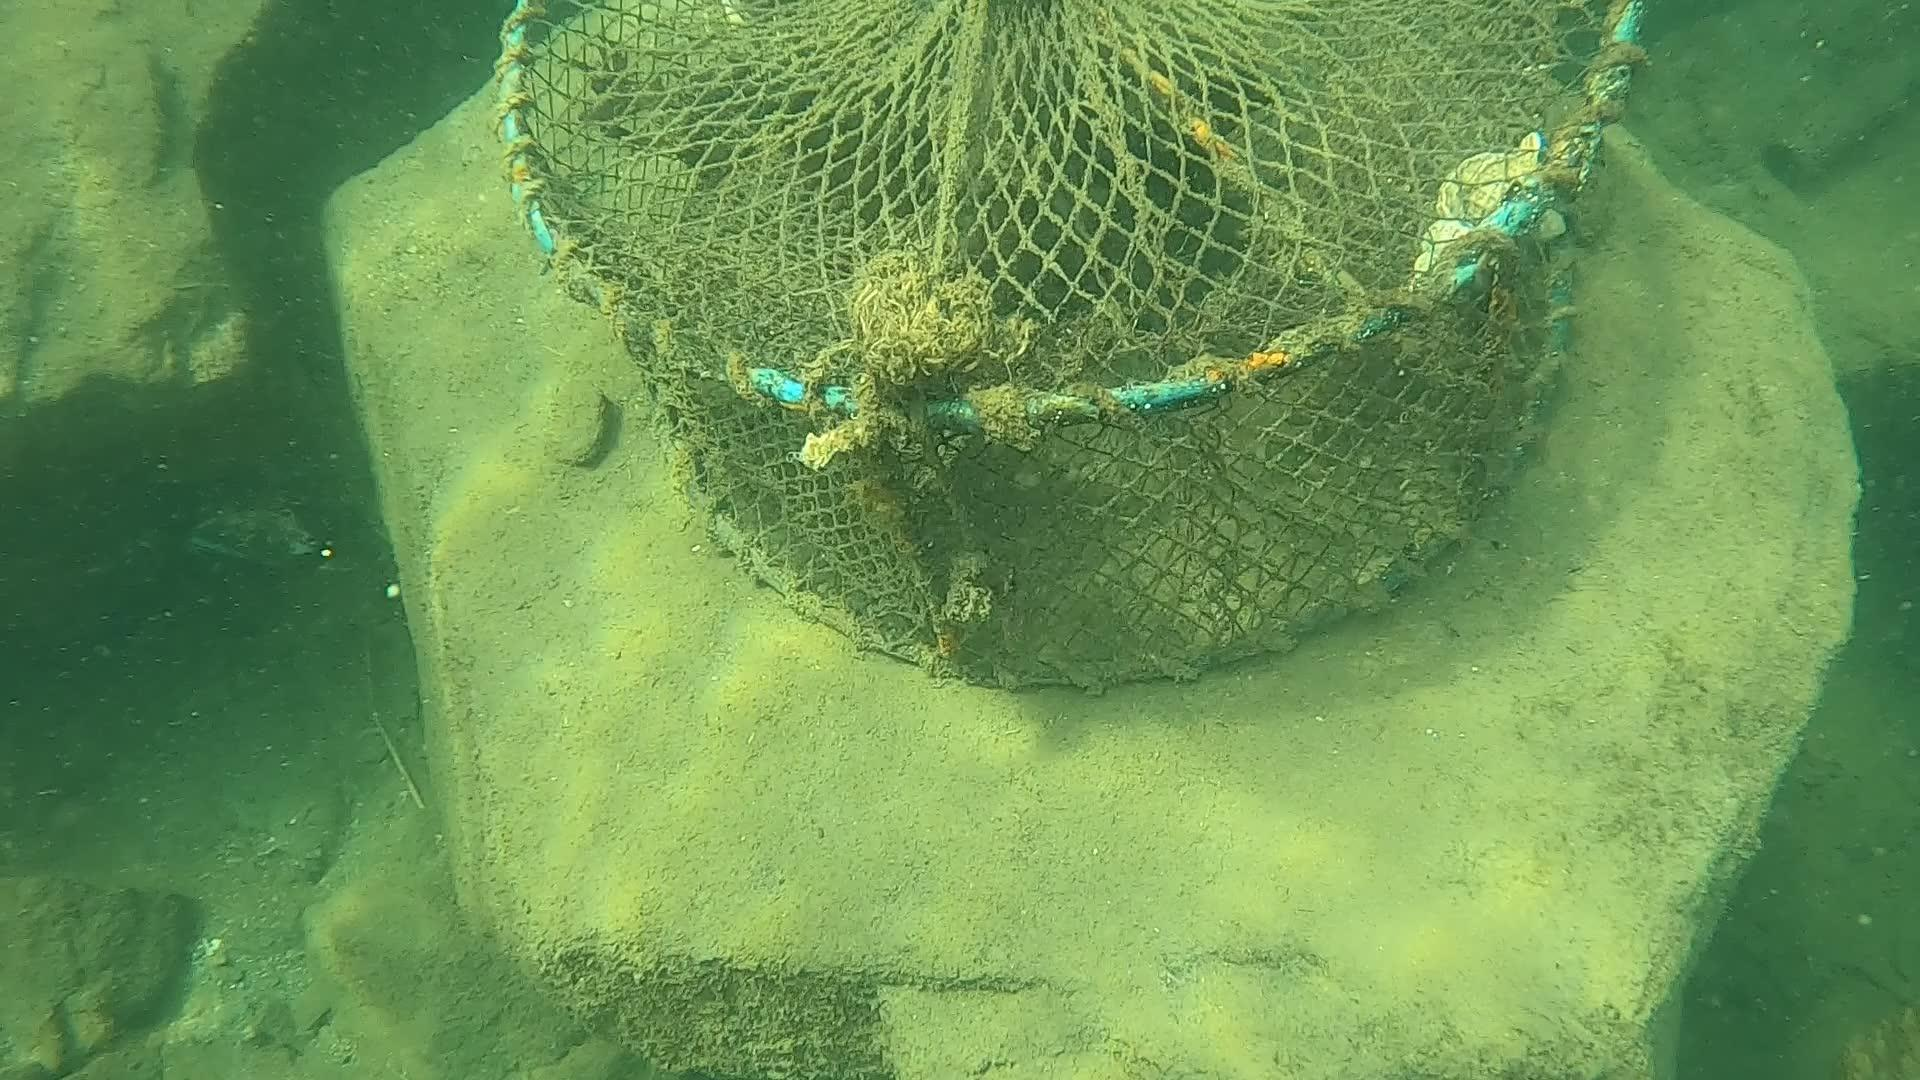circular fish trap: (495, 0, 1654, 691)
